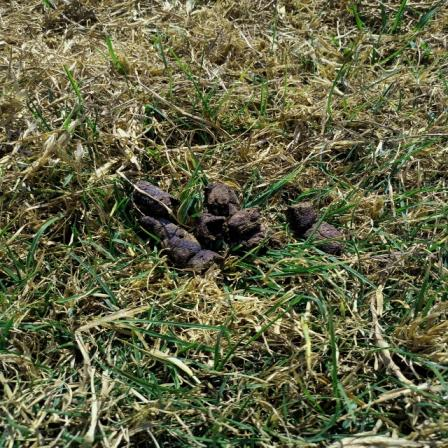dog-poop: (128, 171, 262, 262), (288, 202, 341, 245)
